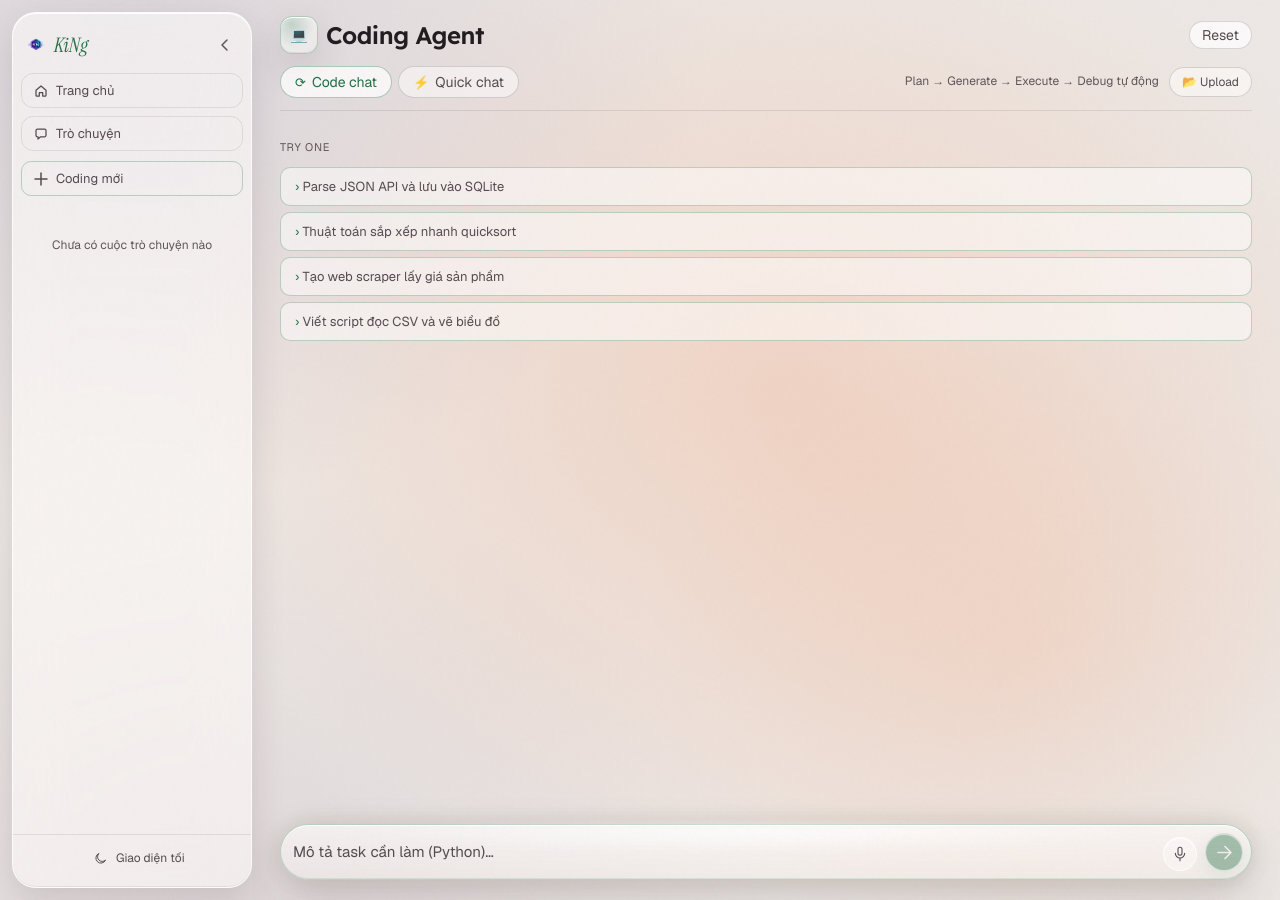
Test: sidebar reopen control on /coding › closes via mouse, then reopens via mouse
This screenshot has width=1280, height=900.
Click the button named "Đóng sidebar" at (225, 45), box [211, 31, 239, 59]
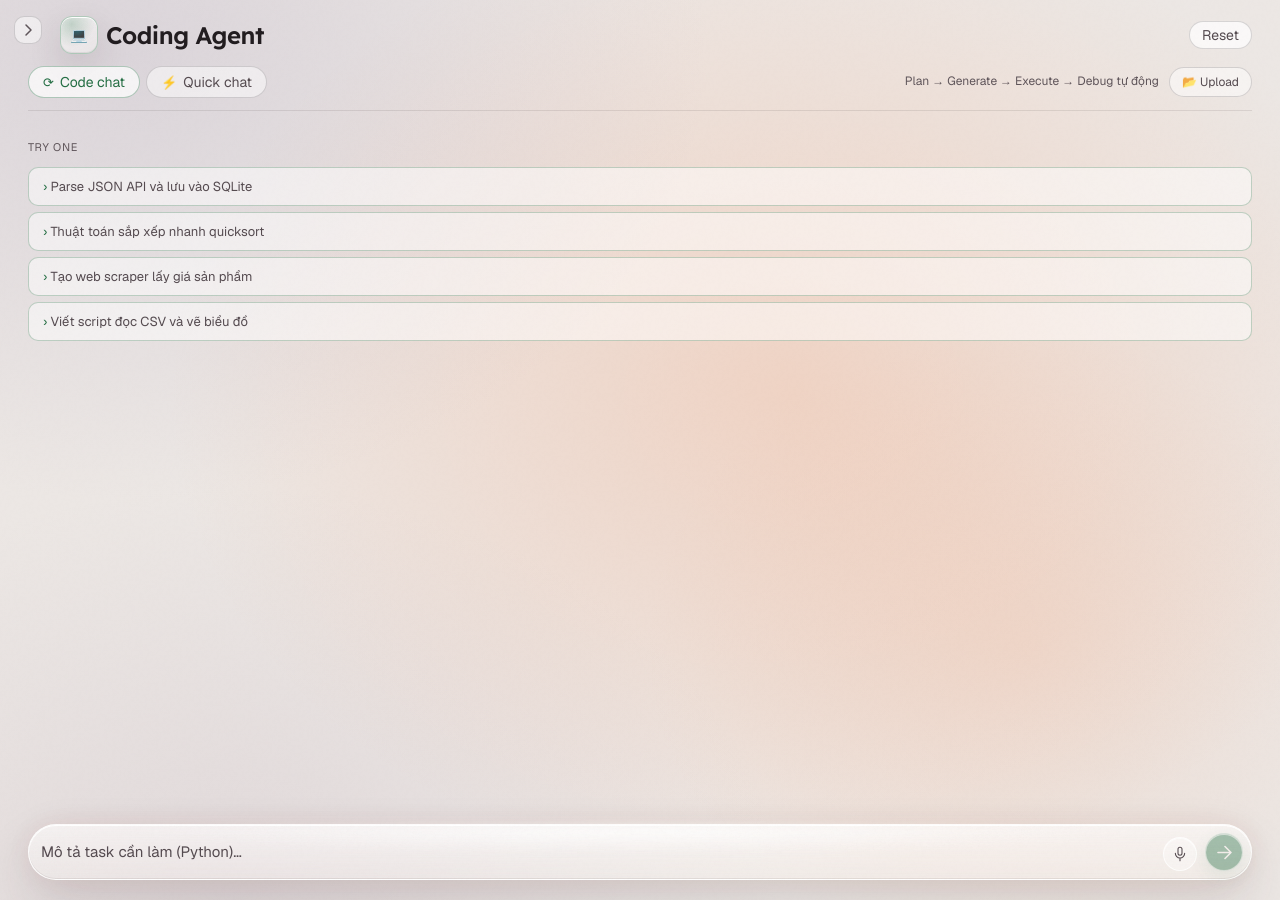
Expected: the button named "Mở sidebar" is shown
Click the button named "Mở sidebar" at (28, 30), box [14, 16, 42, 44]
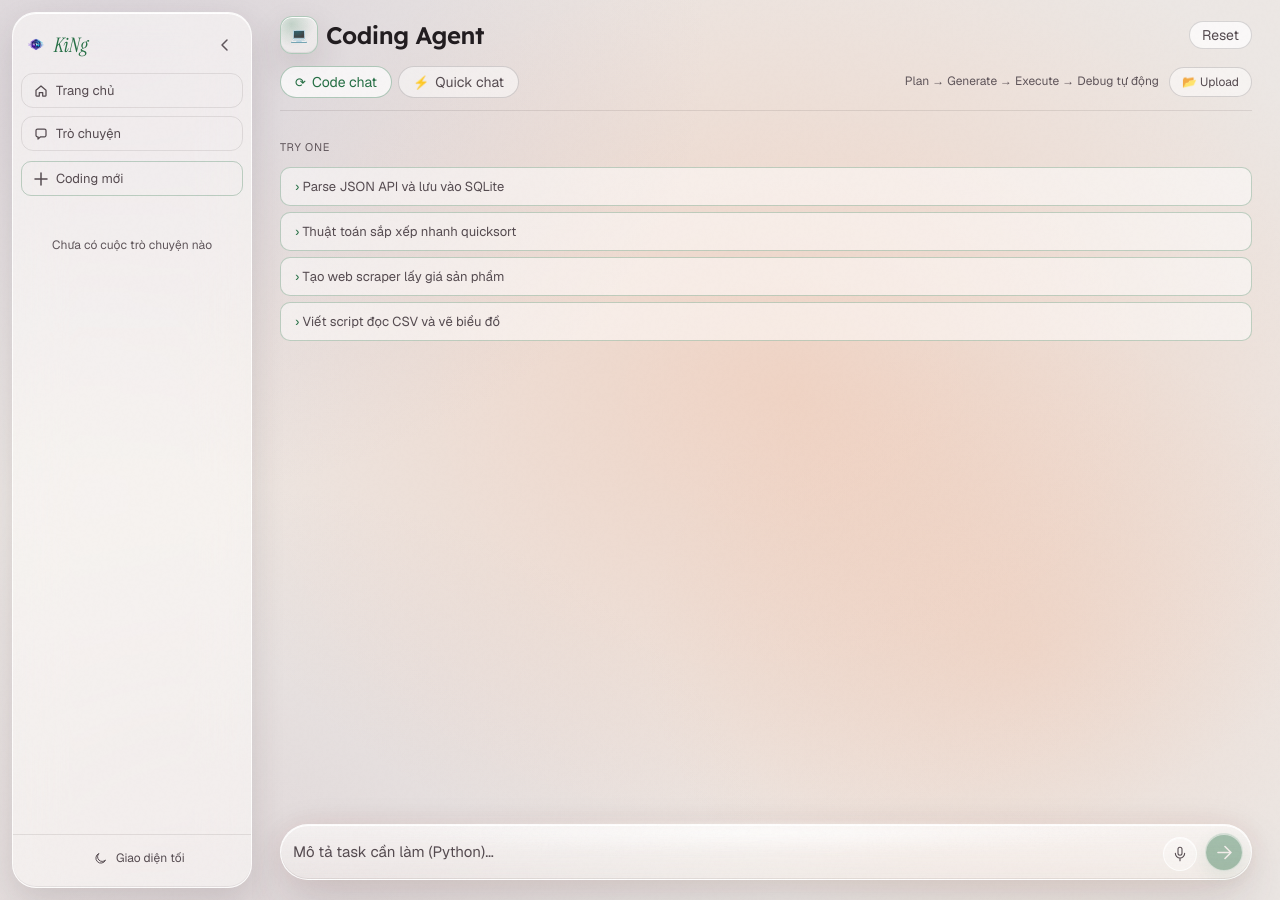
Expected: the button named "Đóng sidebar" is shown, [211, 31, 239, 59]
